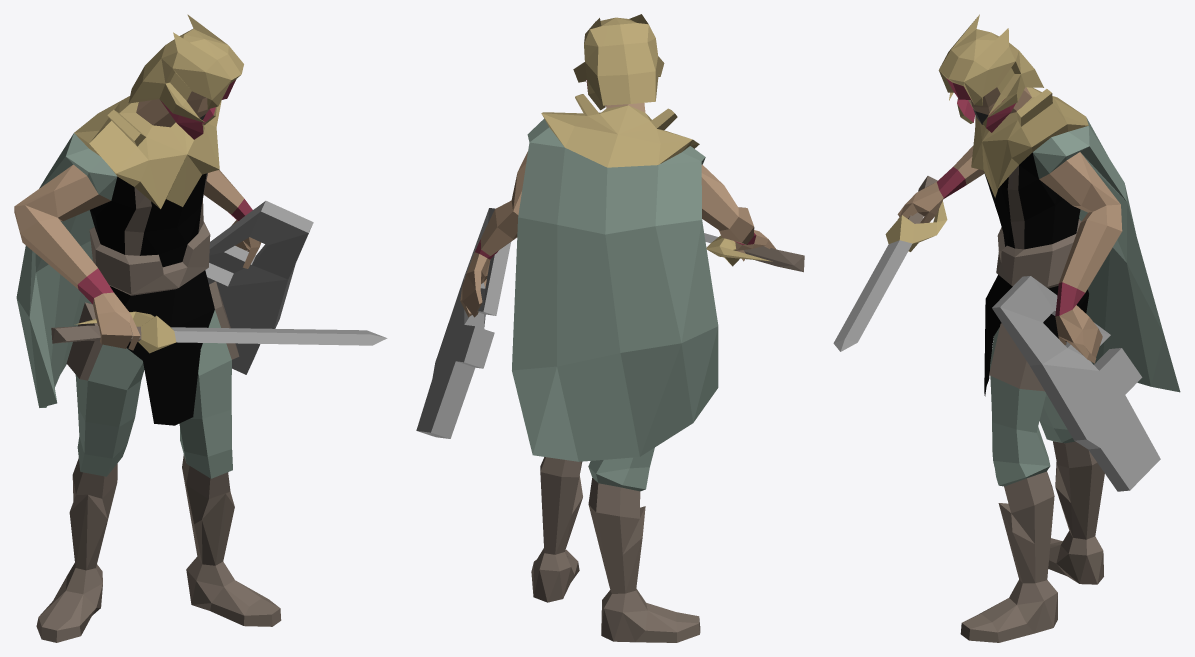
3 renders of one model, left to right at view 1: azimuth 30°, elevation 25°; view 2: azimuth 150°, elevation 25°; view 3: azimuth 270°, elevation 25°, orthographic. The views are drawn at different scales.
Parts seen in each view (by area): view 1: Koseba.obj_Brown_0, Koseba.obj_Teal_0, Koseba.obj_Gold_0, Koseba.obj_Gray_0, Koseba.obj_Black-Dark.001_0, Koseba.obj_Orange-Dark_0, Koseba.obj_Red-Dark_0; view 2: Koseba.obj_Teal_0, Koseba.obj_Brown_0, Koseba.obj_Gold_0, Koseba.obj_Gray_0, Koseba.obj_Orange-Dark_0; view 3: Koseba.obj_Brown_0, Koseba.obj_Teal_0, Koseba.obj_Gray_0, Koseba.obj_Gold_0, Koseba.obj_Orange-Dark_0, Koseba.obj_Black-Dark.001_0, Koseba.obj_Red-Dark_0.
Part boxes in pixels (box(x1,y1,x2,y2)): Koseba.obj_Brown_0: box(36, 173, 281, 642); Koseba.obj_Teal_0: box(16, 133, 232, 478); Koseba.obj_Gold_0: box(74, 14, 243, 353); Koseba.obj_Gray_0: box(171, 201, 387, 374); Koseba.obj_Black-Dark.001_0: box(90, 173, 214, 425); Koseba.obj_Orange-Dark_0: box(14, 91, 261, 350); Koseba.obj_Red-Dark_0: box(77, 80, 252, 304); Koseba.obj_Teal_0: box(512, 118, 718, 491); Koseba.obj_Brown_0: box(531, 246, 804, 642); Koseba.obj_Gold_0: box(541, 14, 772, 266); Koseba.obj_Gray_0: box(416, 208, 718, 438); Koseba.obj_Orange-Dark_0: box(460, 103, 775, 317); Koseba.obj_Brown_0: box(908, 165, 1104, 642); Koseba.obj_Teal_0: box(990, 117, 1180, 486); Koseba.obj_Gray_0: box(833, 240, 1160, 491); Koseba.obj_Gold_0: box(885, 14, 1088, 251); Koseba.obj_Orange-Dark_0: box(897, 87, 1122, 363); Koseba.obj_Black-Dark.001_0: box(984, 152, 1088, 396); Koseba.obj_Red-Dark_0: box(937, 78, 1084, 316).
Size of the model in its own units: 1.03 by 1.94 by 1.06.
